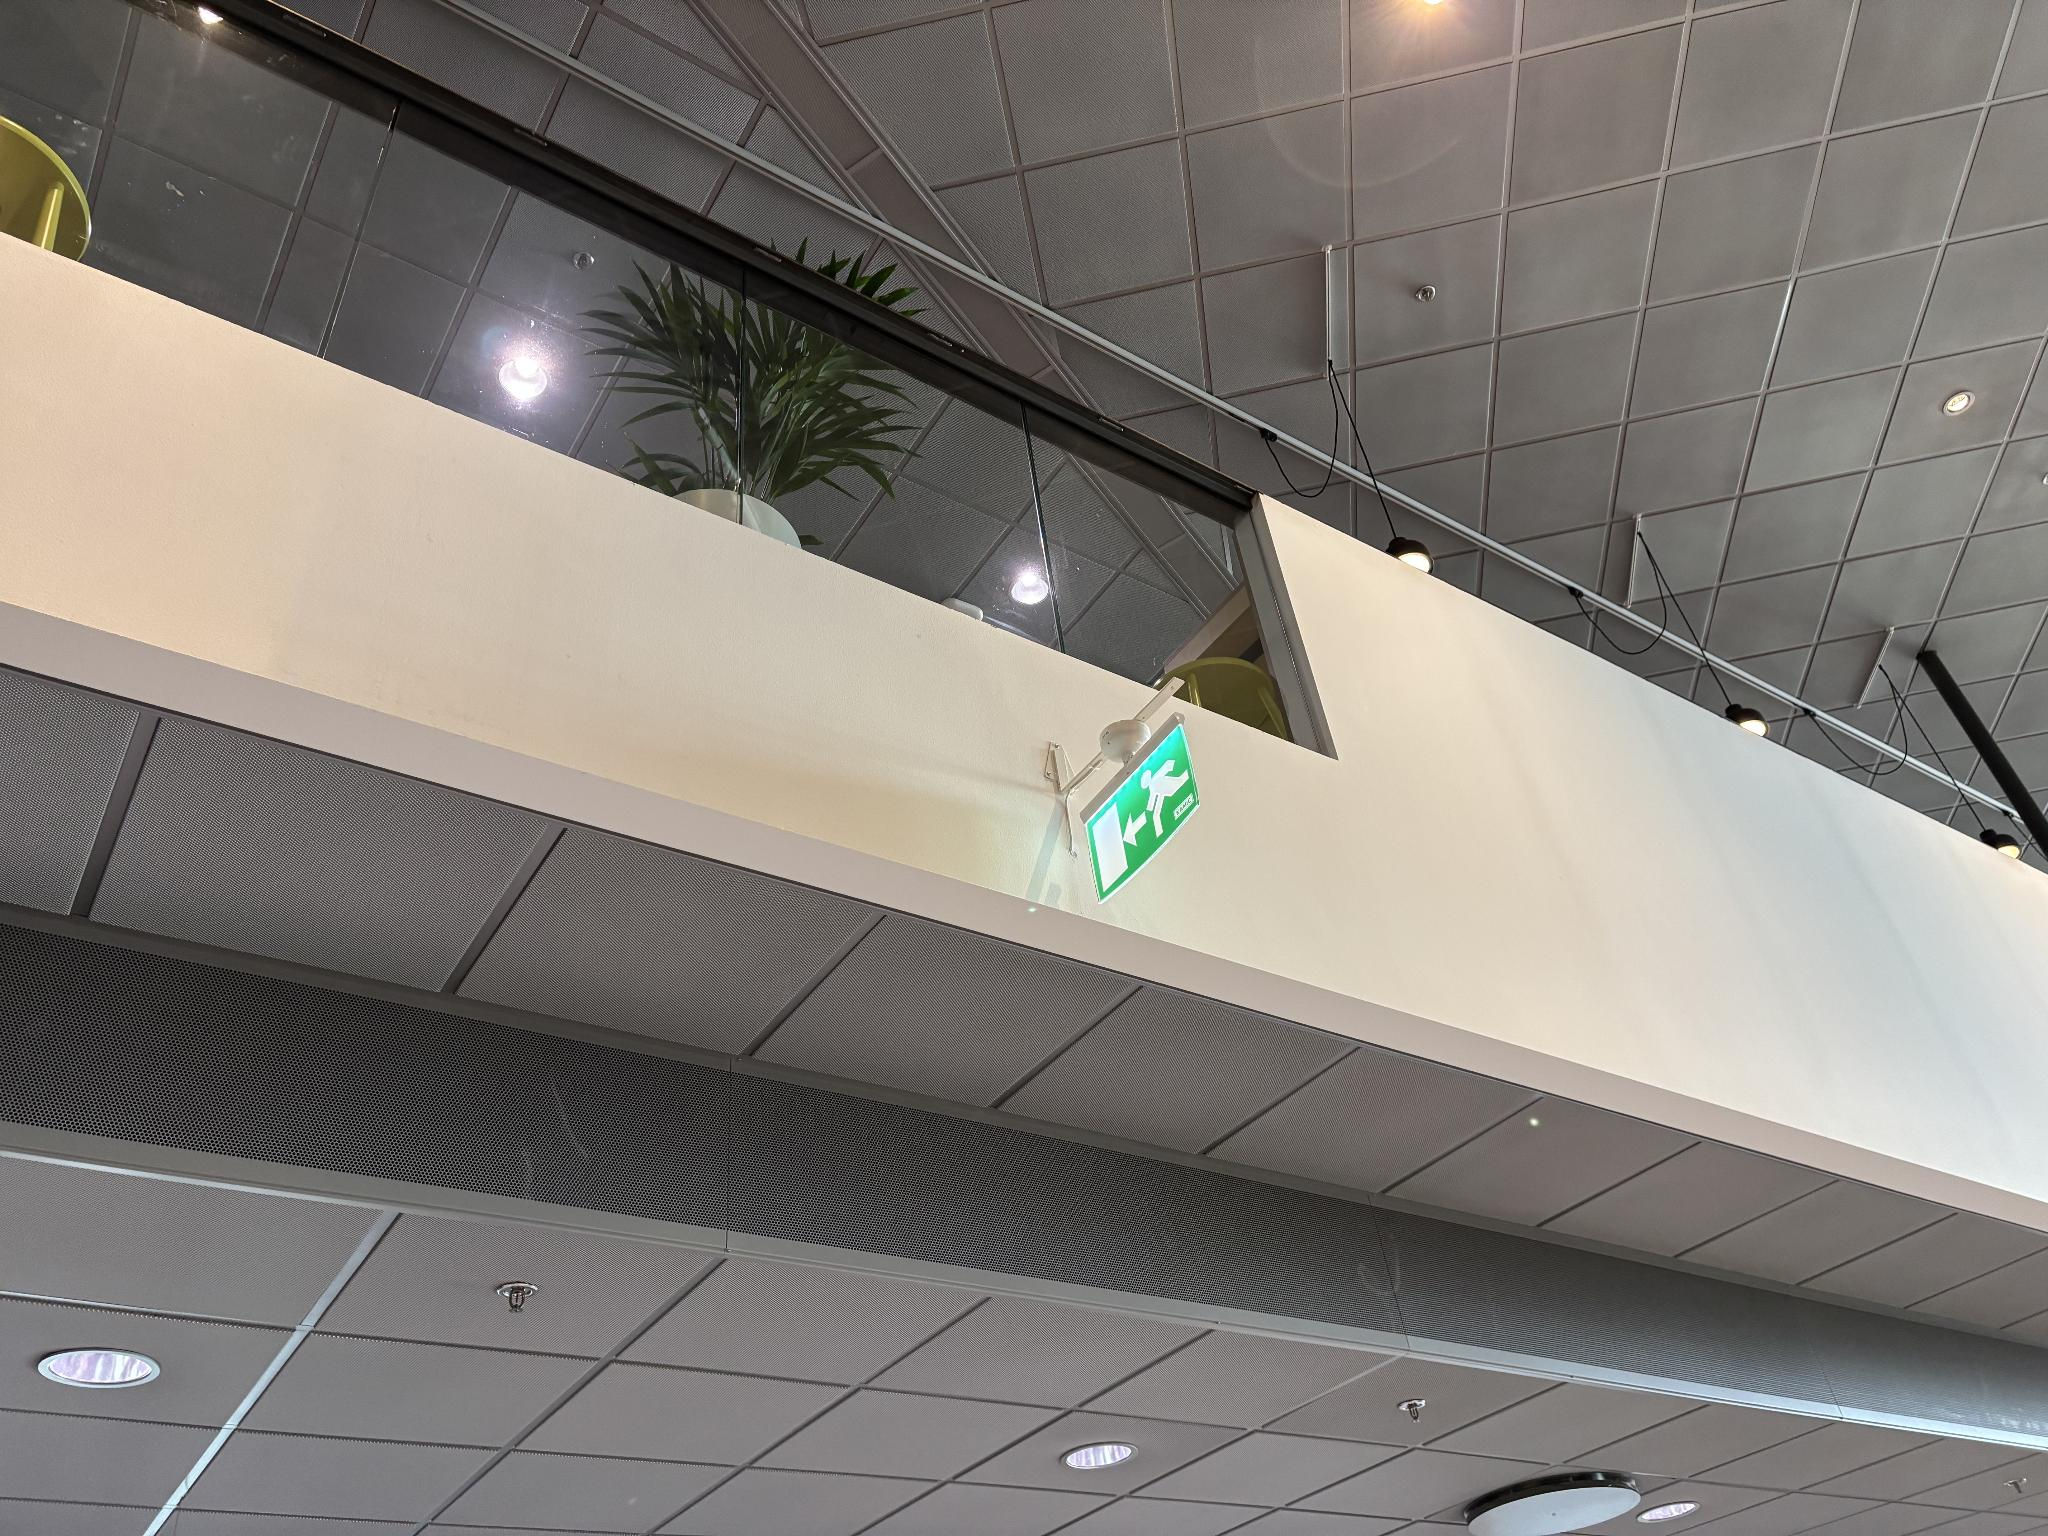exit_sign: (1080, 728, 1200, 886)
